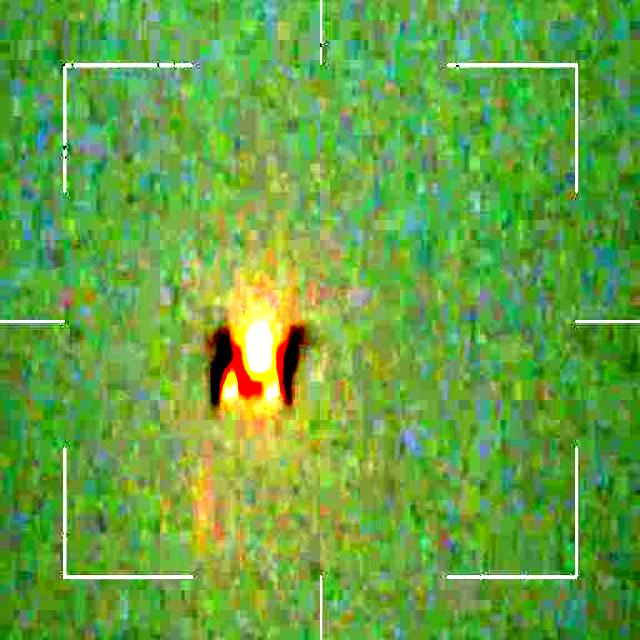bird: (204, 311, 308, 410)
